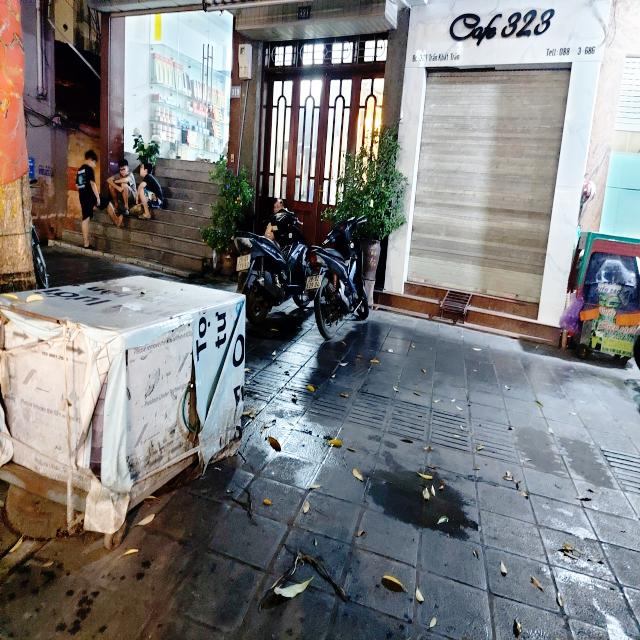license_plate: (306, 275, 323, 291), (237, 255, 251, 272)
